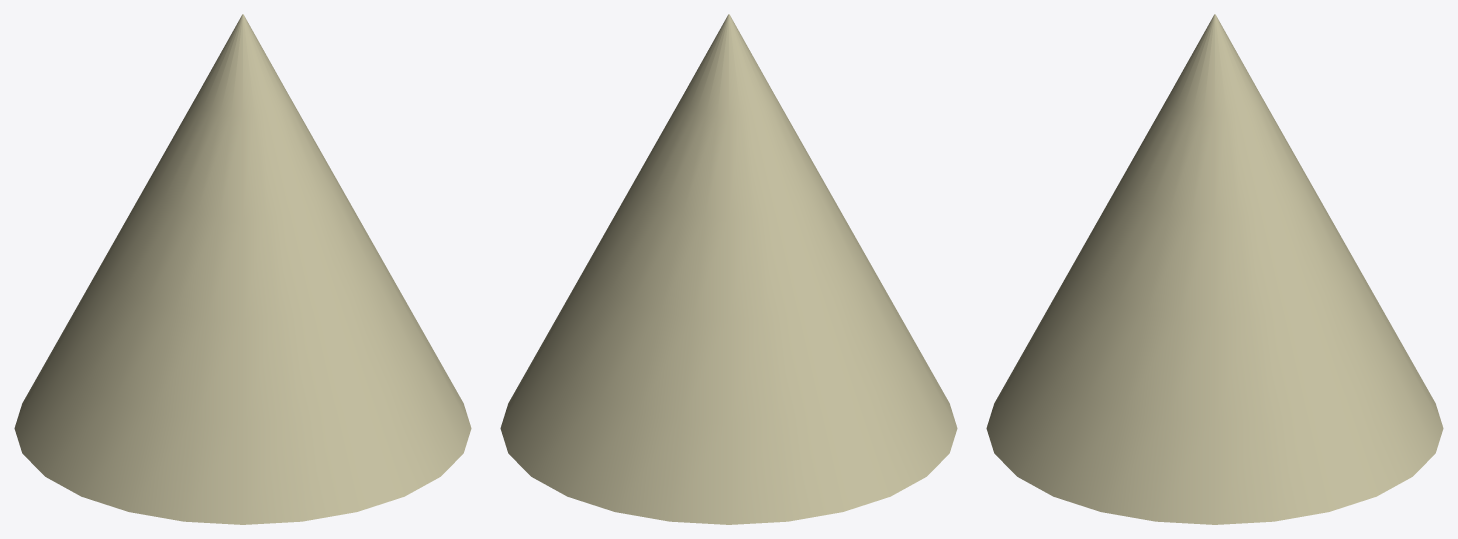
The model's file is Koni.FBX.
3 renders of one model, left to right at view 1: azimuth 30°, elevation 25°; view 2: azimuth 150°, elevation 25°; view 3: azimuth 270°, elevation 25°, orthographic.
Parts seen in each view (by area): view 1: Koni; view 2: Koni; view 3: Koni.
Part boxes in pixels (x1=…): Koni: x1=14, y1=14, x2=471, y2=524; Koni: x1=500, y1=14, x2=957, y2=524; Koni: x1=986, y1=14, x2=1443, y2=524.
Size of what is drawn, in the model's own units: 100 by 100 by 100.
